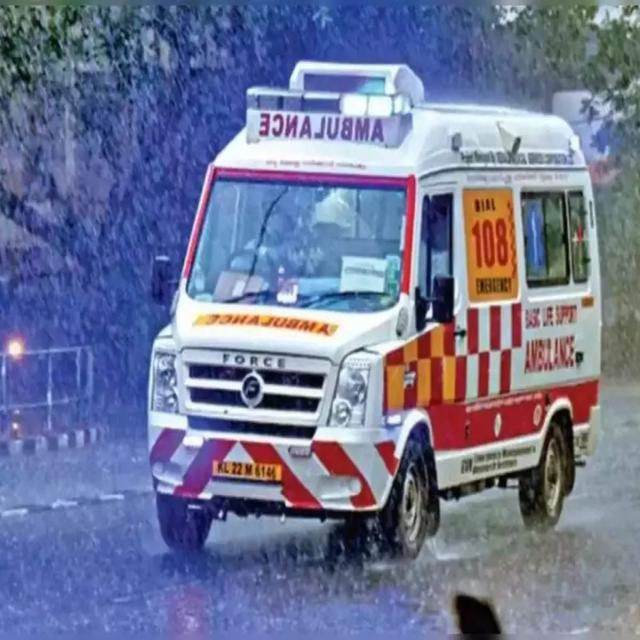ambulance: (140, 58, 602, 557)
